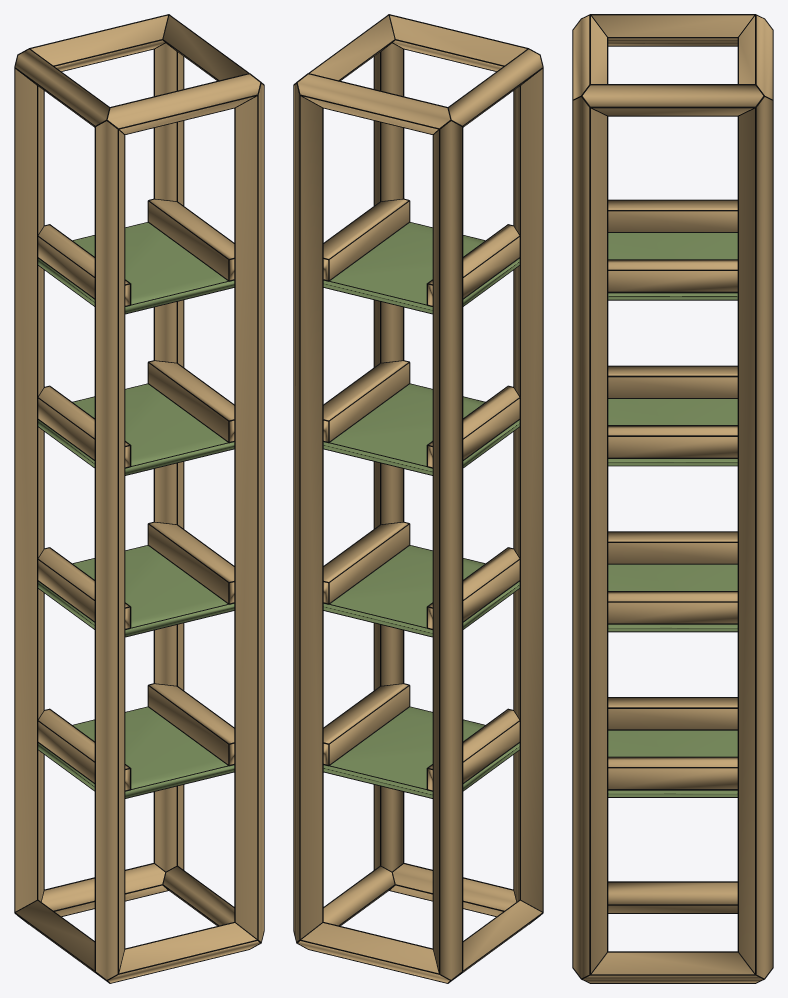
Rendered from bibliotheque-moyenne.glb.
3 views of the same model, side by side, from view 1: azimuth 30°, elevation 25°; view 2: azimuth 150°, elevation 25°; view 3: azimuth 270°, elevation 25° (orthographic). The views are drawn at different scales.
Parts seen in each view (by area): view 1: arete-Z1, arete-Z0, arete-Z2, arete-Z3, tablette-plate-mod-3, tablette-plate-mod-0, tablette-plate-mod-2, tablette-plate-mod-1, arete-wire-Z0, arete-wire-Z2, arete-X2, arete-wire-Z1 (+23 smaller); view 2: arete-Z3, arete-Z2, arete-Z0, arete-Z1, tablette-plate-mod-3, tablette-plate-mod-0, tablette-plate-mod-2, tablette-plate-mod-1, arete-wire-Z2, arete-wire-Z0, arete-X3, arete-wire-Z3 (+23 smaller); view 3: arete-Z1, arete-Z3, arete-wire-Z1, arete-wire-Z3, arete-Y3, arete-Y1, tablette-plate-mod-1, tablette-plate-mod-0, tablette-plate-mod-3, tablette-plate-mod-2, arete-Y2, tablette-traverse-right-mod-1 (+23 smaller).
Boxes of the visible parts, x1=… form: arete-Z1: x1=235, y1=84, x2=263, y2=941; arete-Z0: x1=96, y1=121, x2=124, y2=979; arete-Z2: x1=15, y1=69, x2=43, y2=911; arete-Z3: x1=155, y1=43, x2=183, y2=871; tablette-plate-mod-3: x1=38, y1=222, x2=234, y2=313; tablette-plate-mod-0: x1=38, y1=707, x2=234, y2=797; tablette-plate-mod-2: x1=38, y1=384, x2=234, y2=474; tablette-plate-mod-1: x1=38, y1=545, x2=234, y2=636; arete-wire-Z0: x1=94, y1=120, x2=125, y2=974; arete-wire-Z2: x1=14, y1=68, x2=44, y2=912; arete-X2: x1=107, y1=74, x2=259, y2=134; arete-wire-Z1: x1=234, y1=82, x2=264, y2=940; arete-Z3: x1=294, y1=84, x2=322, y2=941; arete-Z2: x1=433, y1=121, x2=461, y2=979; arete-Z0: x1=514, y1=69, x2=542, y2=911; arete-Z1: x1=374, y1=43, x2=402, y2=871; tablette-plate-mod-3: x1=323, y1=222, x2=519, y2=313; tablette-plate-mod-0: x1=323, y1=707, x2=519, y2=797; tablette-plate-mod-2: x1=323, y1=384, x2=519, y2=474; tablette-plate-mod-1: x1=323, y1=545, x2=519, y2=636; arete-wire-Z2: x1=432, y1=120, x2=463, y2=974; arete-wire-Z0: x1=513, y1=54, x2=543, y2=912; arete-X3: x1=298, y1=74, x2=450, y2=134; arete-wire-Z3: x1=293, y1=86, x2=323, y2=940; arete-Z1: x1=573, y1=97, x2=606, y2=978; arete-Z3: x1=739, y1=97, x2=772, y2=978; arete-wire-Z1: x1=572, y1=96, x2=608, y2=974; arete-wire-Z3: x1=737, y1=100, x2=773, y2=974; arete-Y3: x1=583, y1=85, x2=762, y2=115; arete-Y1: x1=583, y1=952, x2=762, y2=982; tablette-plate-mod-1: x1=608, y1=564, x2=737, y2=631; tablette-plate-mod-0: x1=608, y1=730, x2=737, y2=796; tablette-plate-mod-3: x1=608, y1=233, x2=737, y2=299; tablette-plate-mod-2: x1=608, y1=399, x2=737, y2=465; arete-Y2: x1=592, y1=15, x2=753, y2=45; tablette-traverse-right-mod-1: x1=608, y1=592, x2=737, y2=623.
Size of the model in its own units: 0.3309 by 1.63 by 0.3309.
